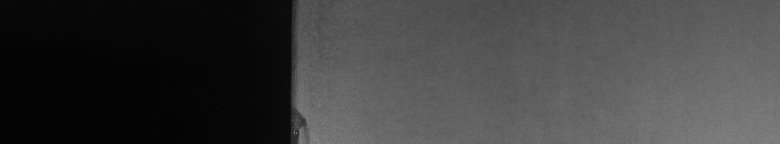hb: (300, 106, 315, 136)
